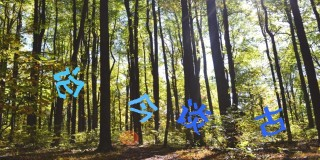今: (129, 94, 159, 122)
古: (255, 106, 285, 135)
论: (52, 66, 85, 99)
谈: (178, 99, 210, 136)
